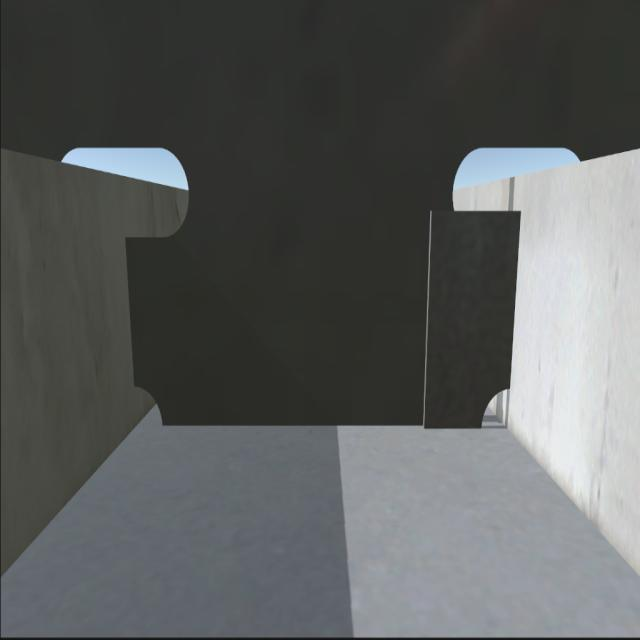fillet_hole: (127, 382, 168, 428), (473, 381, 512, 428)
fillet_yong_jeop_jang: (158, 411, 482, 438)
longi_yong_jeop_jang: (116, 239, 142, 380), (508, 207, 520, 389)
plate_CP01: (426, 204, 514, 429)
